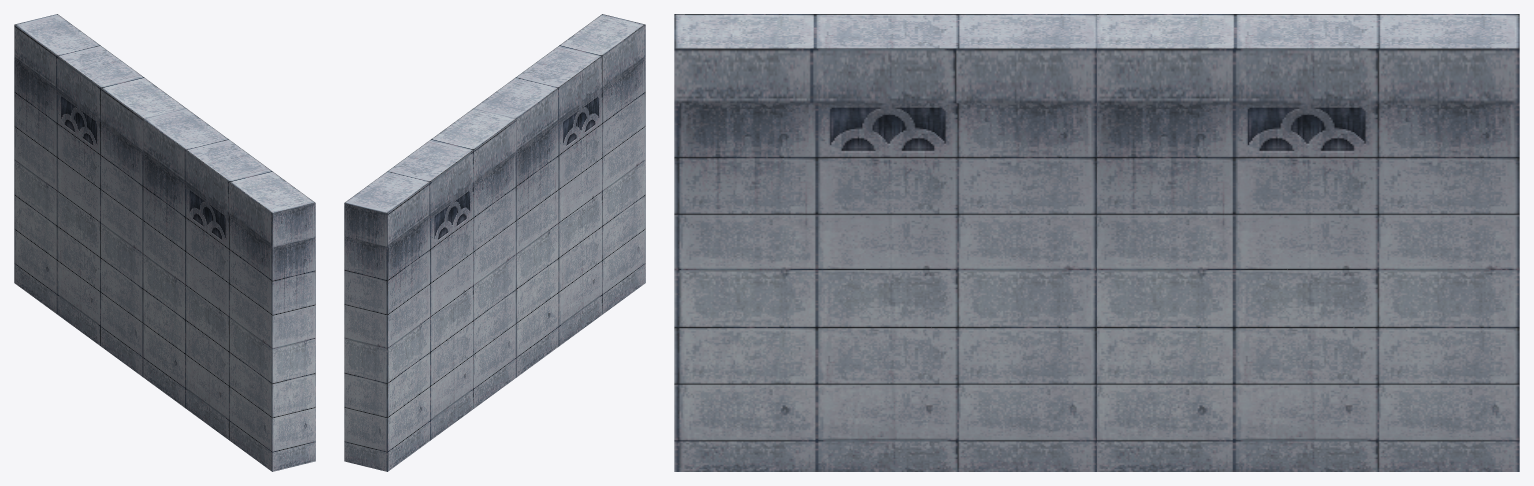
File: ConcreteWallHighLong.fbx
The picture shows the model from 3 angles, left to right: view 1: azimuth 30°, elevation 25°; view 2: azimuth 150°, elevation 25°; view 3: azimuth 270°, elevation 25°; orthographic projection. The views are drawn at different scales.
Visible parts, largest first — view 1: ConcreteWallLongHigh; view 2: ConcreteWallLongHigh; view 3: ConcreteWallLongHigh.
Boxes of the visible parts, x1,y1,x2,y2 form: ConcreteWallLongHigh: (14, 14, 315, 471); ConcreteWallLongHigh: (344, 14, 645, 471); ConcreteWallLongHigh: (674, 14, 1519, 471).
Size of the model in its own units: 222 by 1261 by 2283.
